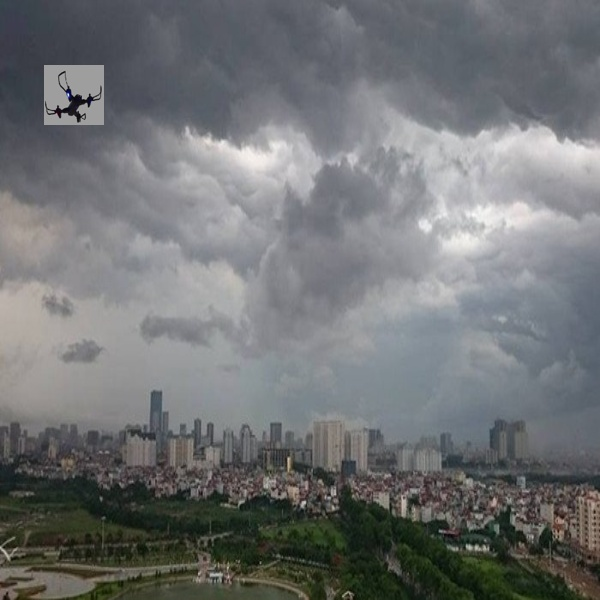drone: (40, 64, 107, 123)
